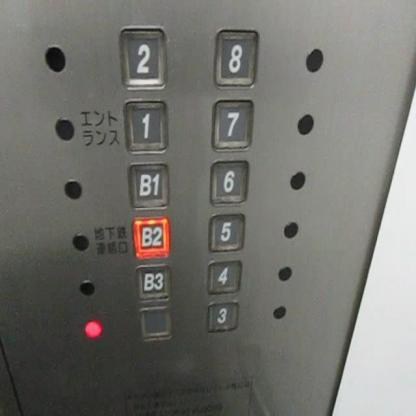1: (124, 97, 168, 153)
2: (119, 24, 168, 90)
3: (205, 298, 240, 336)
4: (206, 256, 242, 294)
5: (207, 210, 245, 254)
6: (209, 158, 250, 204)
7: (211, 97, 253, 150)
8: (213, 28, 259, 88)
B1: (127, 162, 171, 211)
B2: (131, 215, 171, 259)
B3: (134, 264, 173, 301)
empty: (138, 303, 172, 340)
